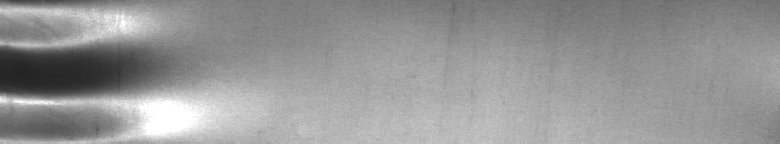ke: (4, 4, 162, 136)
